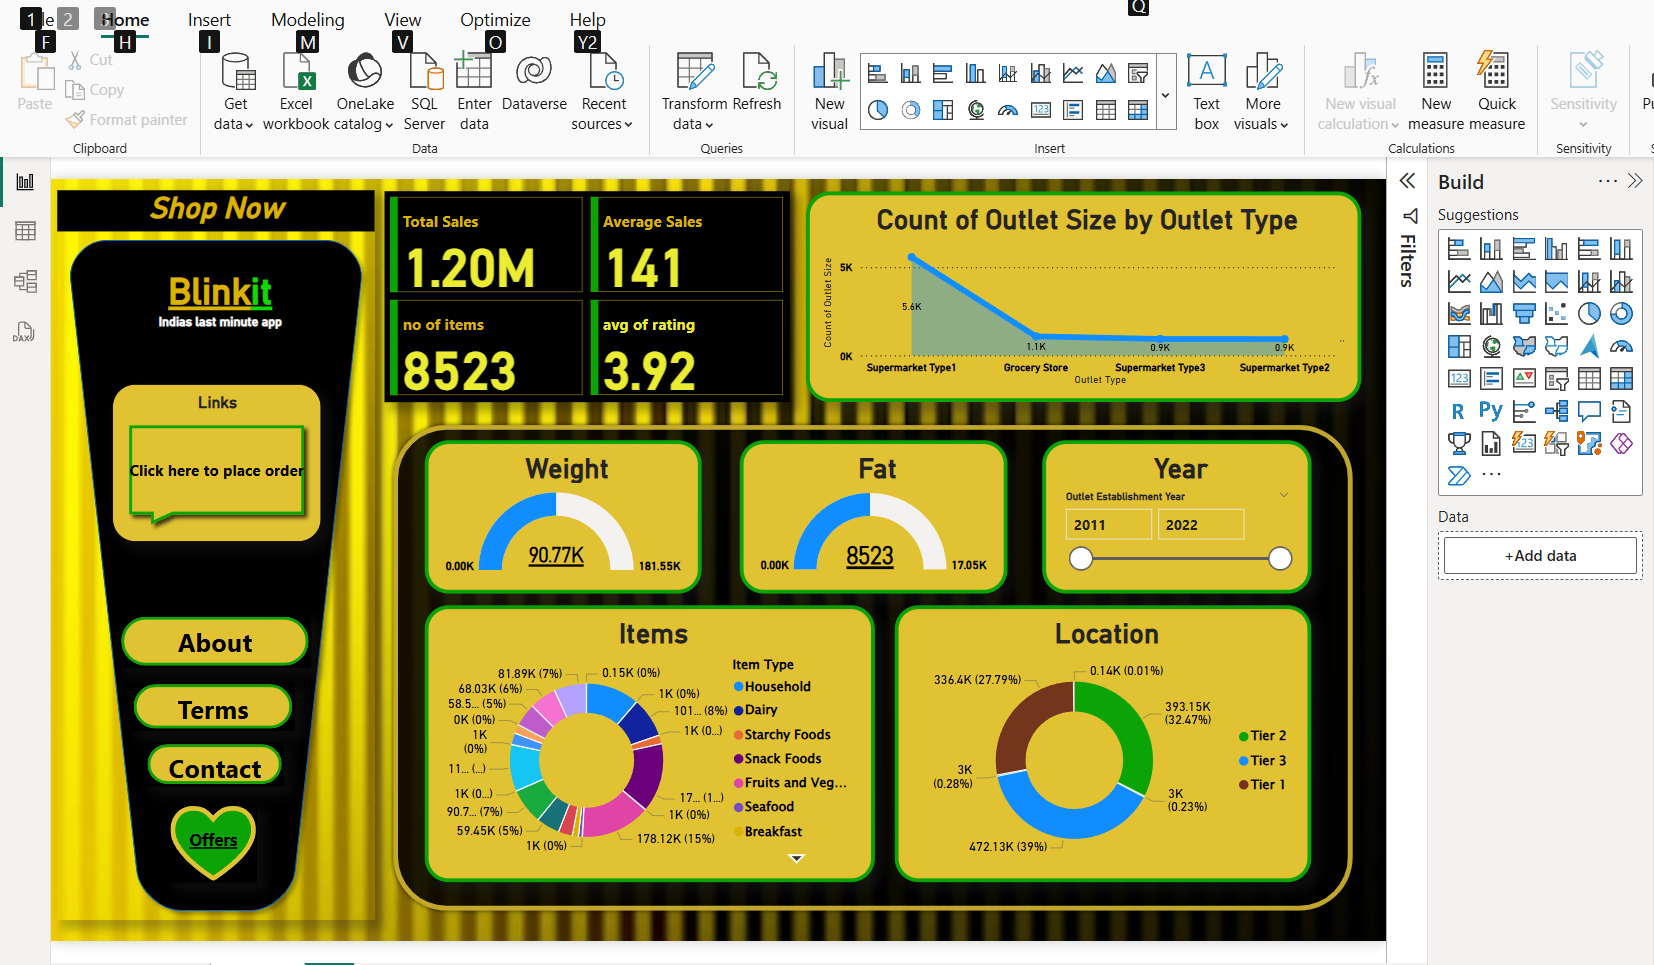

The dashboard page shown, as its layout file describes it:
{"tool":"powerbi","page":{"name":"Page 1","canvas":[1400,800],"ordinal":0},"visuals":[{"type":"shape","title":"Shop Now","box":[7,12,333,765.3],"z":0},{"type":"textbox","box":[85.2,89.9,184.6,85.2],"z":1000},{"type":"cardVisual","fields":{"Data":["BlinkIT Grocery Data.total sales","BlinkIT Grocery Data.average sales","BlinkIT Grocery Data.no of items","BlinkIT Grocery Data.avg of rating"]},"box":[350.3,12.6,424.5,220.9],"z":2000},{"type":"shape","box":[350.3,249.3,1024.1,527.1],"z":3000},{"type":"donutChart","title":"Items","fields":{"Y":["BlinkIT Grocery Data.average sales","BlinkIT Grocery Data.avg of rating","BlinkIT Grocery Data.total sales","BlinkIT Grocery Data.no of items"],"Category":["BlinkIT Grocery Data.Item Type"]},"box":[391.3,446.6,471.8,290.4],"z":4000},{"type":"pieChart","title":"Location","fields":{"Y":["BlinkIT Grocery Data.average sales","BlinkIT Grocery Data.avg of rating","BlinkIT Grocery Data.total sales","BlinkIT Grocery Data.no of items"],"Category":["BlinkIT Grocery Data.Outlet Location Type"]},"box":[885.3,446.6,437.1,290.4],"z":5000},{"type":"gauge","title":"Weight","fields":{"Y":["Sum(BlinkIT Grocery Data.Item Weight)"]},"box":[391.3,274.6,290.4,161],"z":6000},{"type":"gauge","title":"Fat","fields":{"Y":["CountNonNull(BlinkIT Grocery Data.Item Fat Content)"]},"box":[722.7,274.6,280.9,161],"z":7000},{"type":"slicer","title":"Year","fields":{"Values":["BlinkIT Grocery Data.Outlet Establishment Year"]},"box":[1039.9,274.6,282.5,161],"z":8000},{"type":"stackedAreaChart","fields":{"Category":["BlinkIT Grocery Data.Outlet Type"],"Y":["CountNonNull(BlinkIT Grocery Data.Outlet Size)"]},"box":[792.2,12.6,582.3,220.9],"z":9000},{"type":"shape","title":"Links","box":[64.7,214.6,219.3,165.7],"z":10000},{"type":"shape","box":[72.6,457.6,200.4,55.2],"z":11000},{"type":"shape","box":[85.2,528.6,170.4,50.5],"z":12000},{"type":"shape","box":[99.4,591.8,145.2,45.8],"z":13000},{"type":"shape","box":[124.7,656.5,91.5,80.5],"z":14000}]}

Visuals, with their boxes on the page's 1400x800 design canvas (x1, y1, x2, y2). These are canvas units, not pixel positions in the 1654x965 screenshot, which may show the page scaled, cropped or inside an application window:
"Shop Now" shape: 7, 12, 340, 777
textbox: 85, 90, 270, 175
cardVisual - BlinkIT Grocery Data.total sales x BlinkIT Grocery Data.average sales: 350, 13, 775, 234
shape: 350, 249, 1374, 776
"Items" donutChart: 391, 447, 863, 737
"Location" pieChart: 885, 447, 1322, 737
"Weight" gauge: 391, 275, 682, 436
"Fat" gauge: 723, 275, 1004, 436
"Year" slicer: 1040, 275, 1322, 436
stackedAreaChart - BlinkIT Grocery Data.Outlet Type x CountNonNull(BlinkIT Grocery Data.Outlet Size): 792, 13, 1374, 234
"Links" shape: 65, 215, 284, 380
shape: 73, 458, 273, 513
shape: 85, 529, 256, 579
shape: 99, 592, 245, 638
shape: 125, 656, 216, 737
